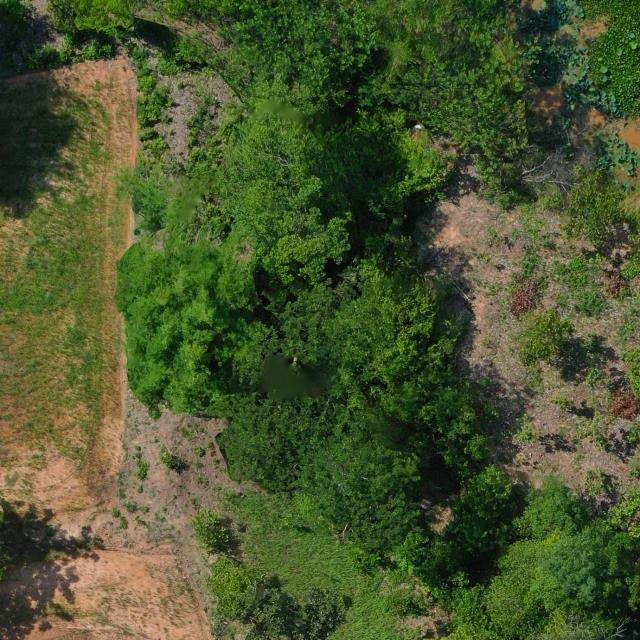Tree: (110, 0, 500, 566), (535, 512, 640, 639), (0, 476, 19, 630)
